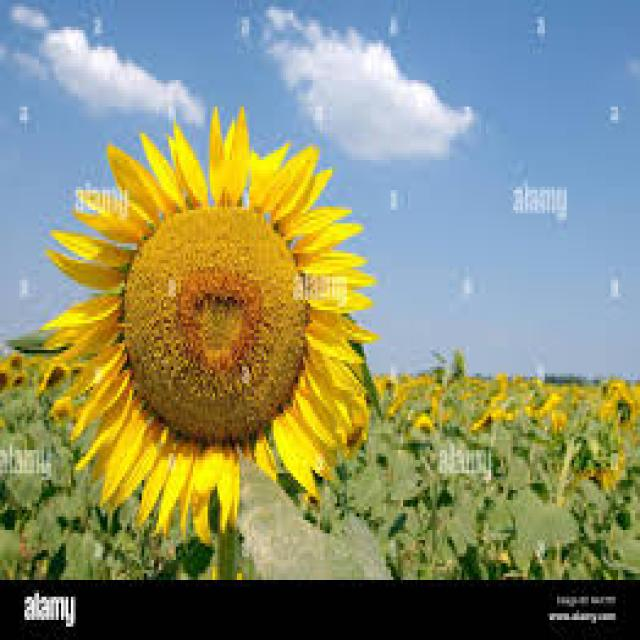sunflower: (36, 94, 381, 548)
